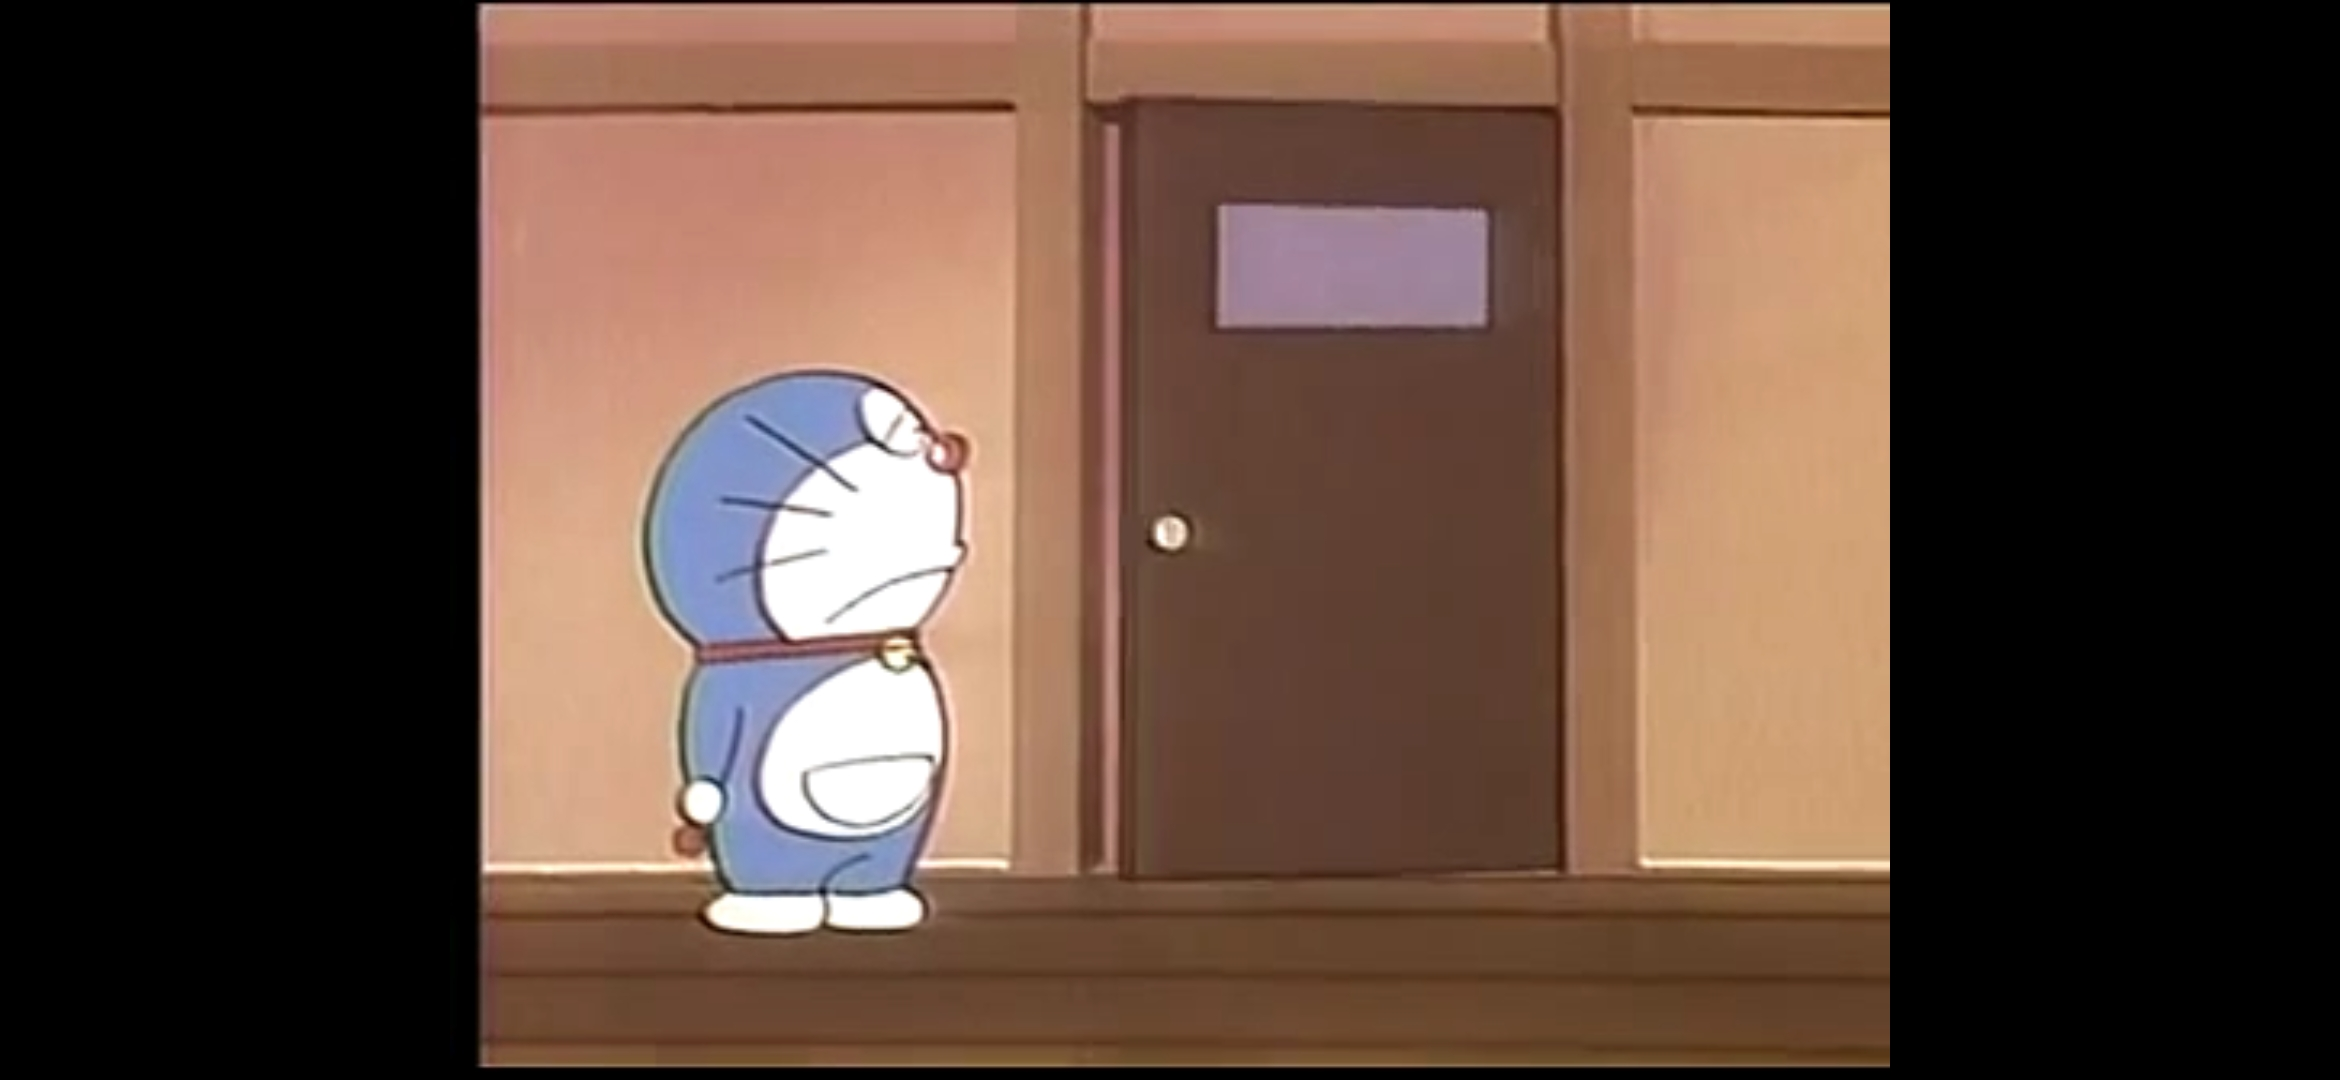Doraemon: (639, 368, 972, 674)
